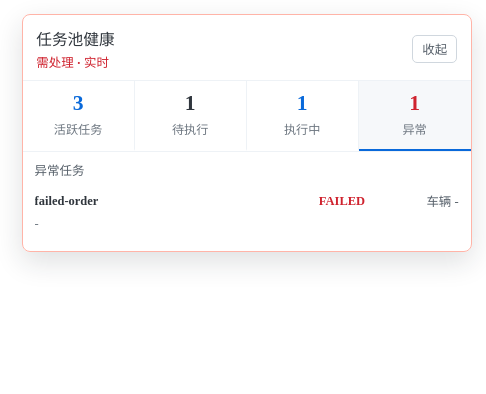
Test: TaskPoolStatusCard › drills into pending, processing, abnormal and active task lists
The image size is (486, 394).
Click the button with test id "task-pool-metric-pending". click: (191, 116)
box: top-left (135, 81), bottom-right (247, 151)
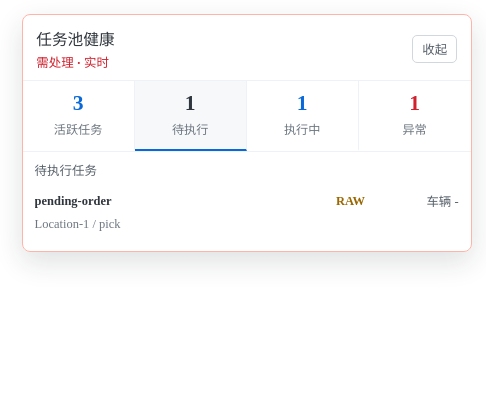
Now the text "待执行任务" is shown, box top-left (35, 161), bottom-right (97, 179)
Now the text "pending-order" is shown, box top-left (35, 194), bottom-right (112, 208)
Now the text "Location-1 / pick" is shown, box top-left (35, 217), bottom-right (120, 231)
Click the button with test id "task-pool-metric-processing". click: (303, 116)
box: top-left (247, 81), bottom-right (359, 151)
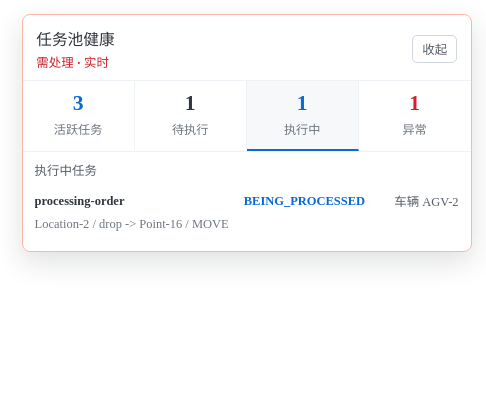
Now the text "执行中任务" is shown, box top-left (35, 161), bottom-right (97, 179)
Now the text "processing-order" is shown, box top-left (35, 194), bottom-right (124, 208)
Now the text "车辆 AGV-2" is shown, box top-left (394, 195), bottom-right (459, 209)
Click the button with test id "task-pool-metric-active". click: (79, 116)
box: top-left (23, 81), bottom-right (135, 151)
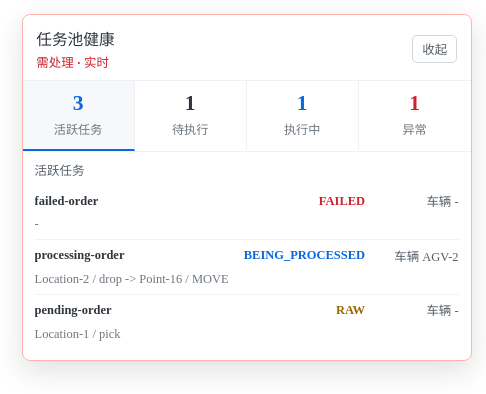
Now the text "processing-order" is shown, box top-left (35, 248), bottom-right (124, 262)
Now the text "failed-order" is shown, box top-left (35, 194), bottom-right (98, 208)
Now the text "pending-order" is shown, box top-left (35, 303), bottom-right (112, 317)
